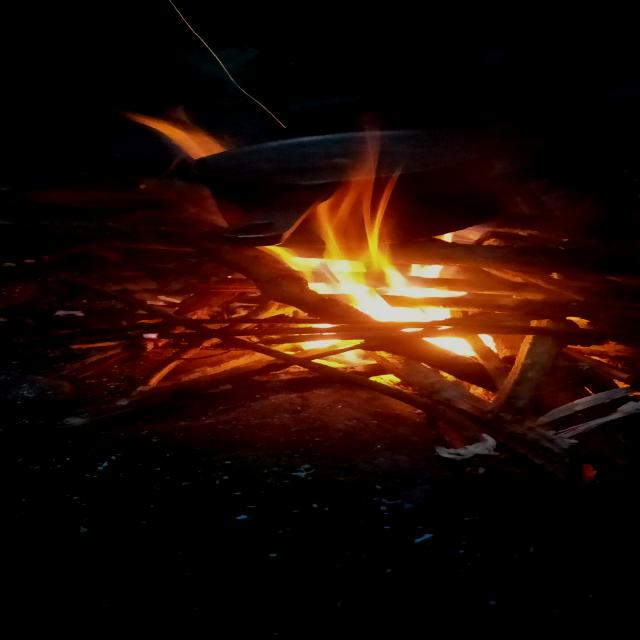firerotation: (114, 101, 514, 379)
